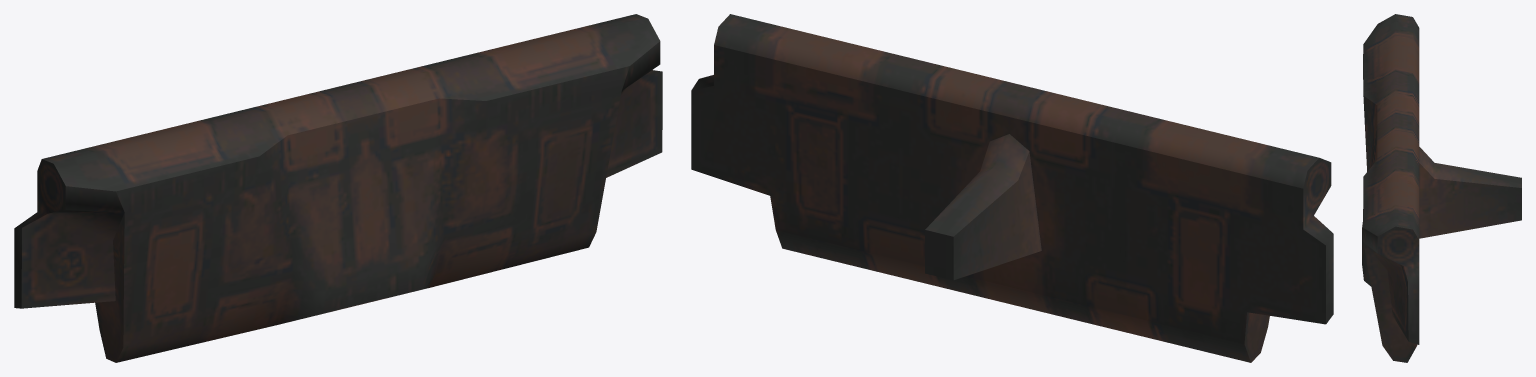
The model's file is track2_segment1.glb.
The picture shows the model from 3 angles, left to right: view 1: azimuth 30°, elevation 25°; view 2: azimuth 150°, elevation 25°; view 3: azimuth 270°, elevation 25°; orthographic projection. The views are drawn at different scales.
Visible parts, largest first — view 1: set_0_group_0; view 2: set_0_group_0; view 3: set_0_group_0.
Boxes of the visible parts, left/top/right/bottom form: set_0_group_0: left=14, top=14, right=662, bottom=362; set_0_group_0: left=691, top=14, right=1333, bottom=362; set_0_group_0: left=1362, top=14, right=1521, bottom=362.
Size of the model in its own units: 0.6508 by 0.2095 by 0.192.
1 material, 1 textured.
